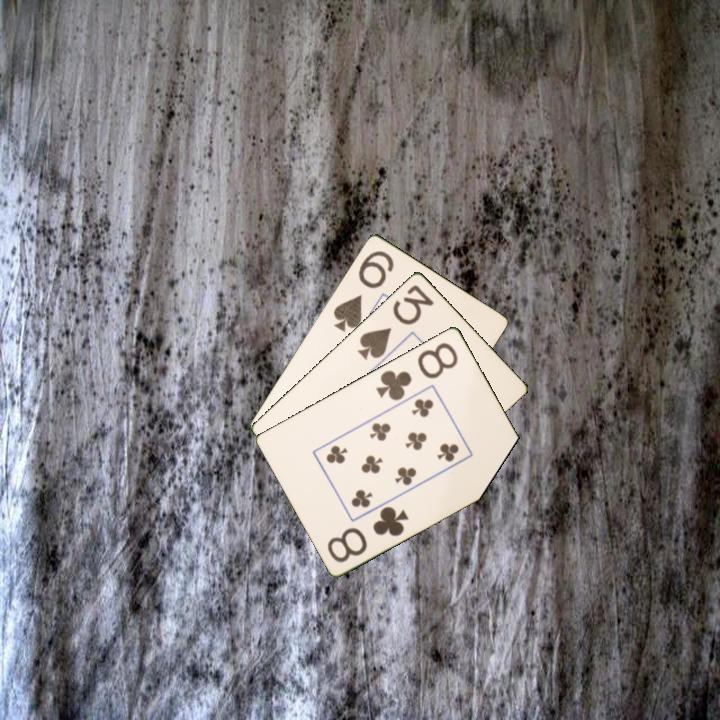3s: (354, 281, 437, 363)
6s: (330, 246, 397, 335)
8c: (372, 338, 461, 403), (324, 502, 412, 565)
